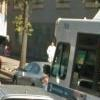Bus: (46, 12, 100, 100)
